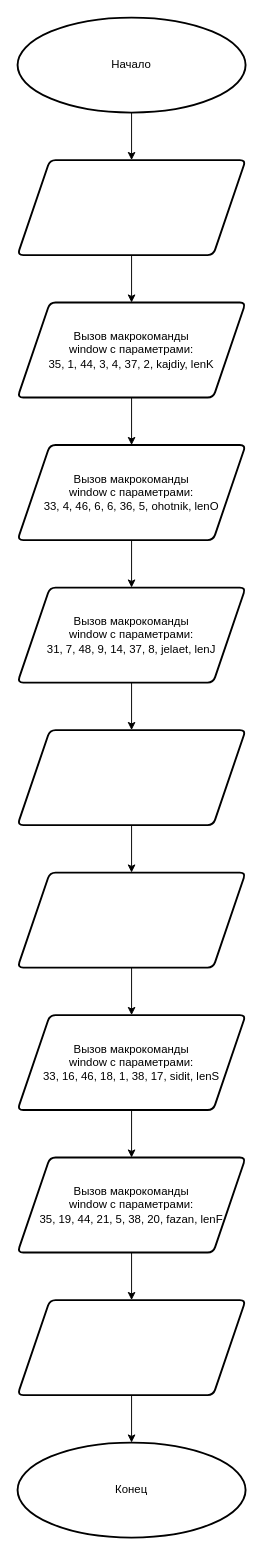
Some shapes in this 262 by 1554 pixel diagram are drawn without their labels. Each missing label, with the centre of its shape:
Вызов макрокоманды clean. Очистка экрана.: [131,207]
Вызов макрокоманды window с параметрами: 0, 0, 0, 0, 0, 1, 24, press, lenPress: [131,1347]
Вызов макрокоманды window с параметрами: 29, 10, 50, 12, 2, 38, 11, znat', lenZ: [131,777]
Вызов макрокоманды window с параметрами: 31, 13, 48, 15, 9, 39, 14, gde, lenG: [131,919]
